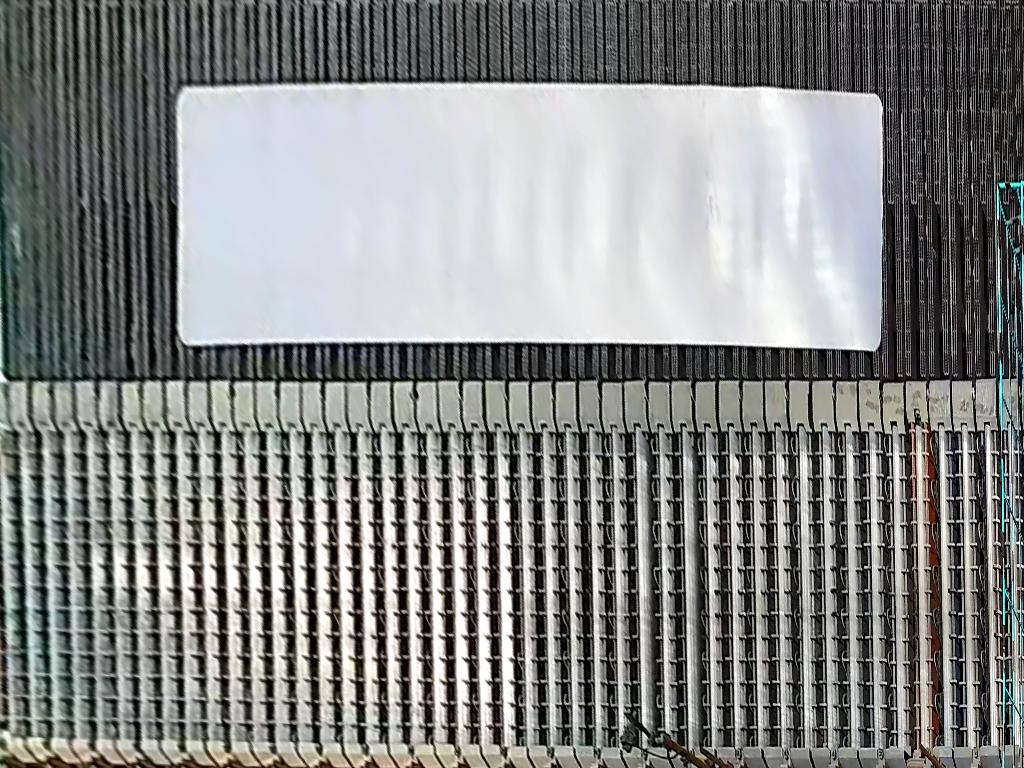steel: (177, 82, 883, 351)
